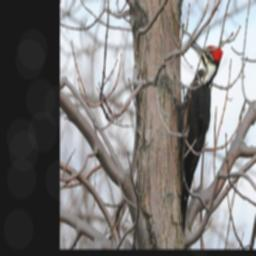Woodpecker: (175, 39, 223, 242)
